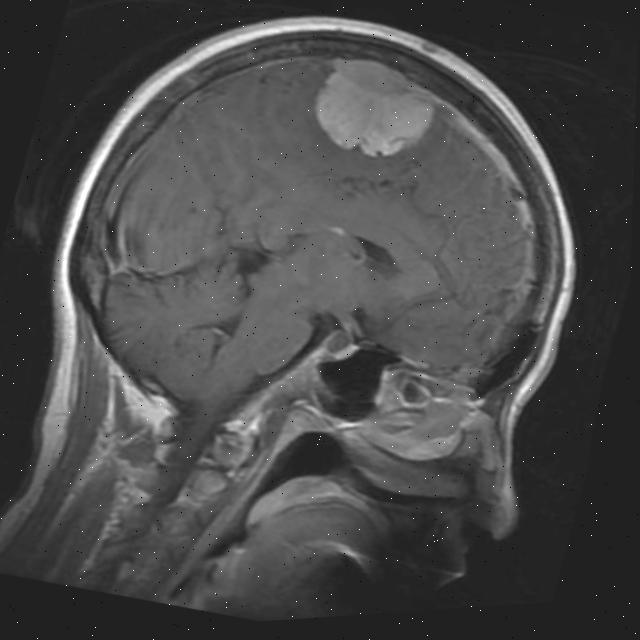Meningioma: (298, 43, 446, 175)
